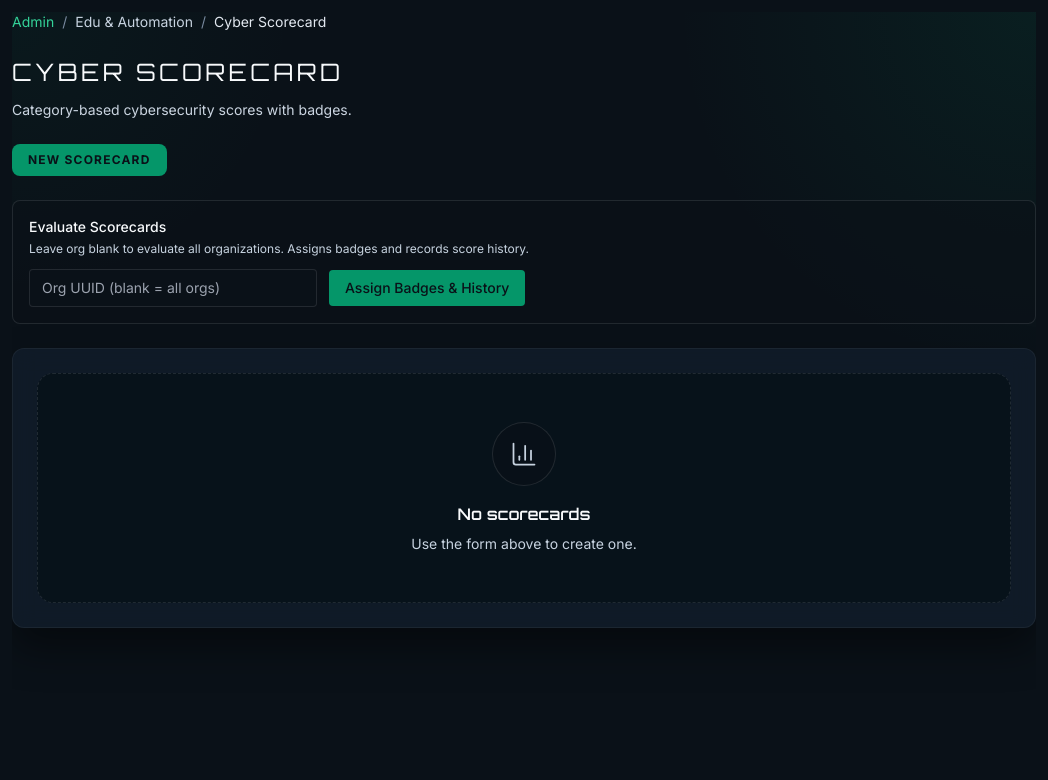
it: ScorecardPage › labels the evaluate input and announces failures
Expected: the field named "Organization ID (optional)" is shown, [29,269,317,307]
Click the button "Assign Badges & History": {"x": 427, "y": 288} [329,270,525,306]
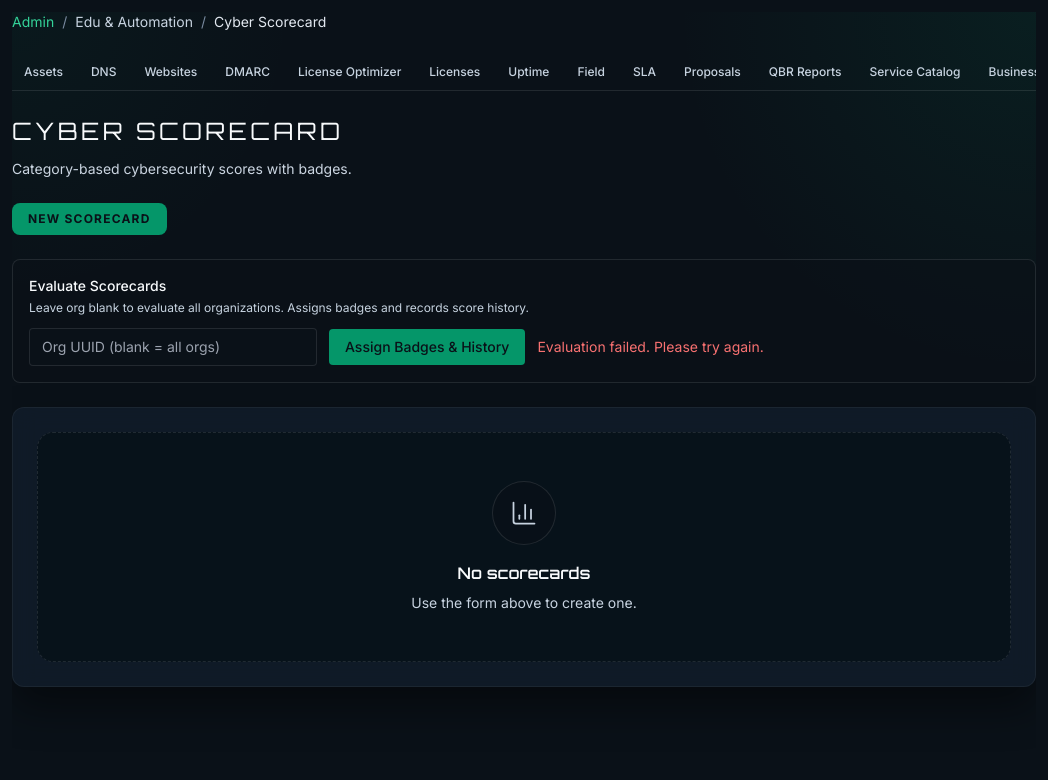
Expected: the message reads "Evaluation failed. Please try again.", [537,338,764,355]
